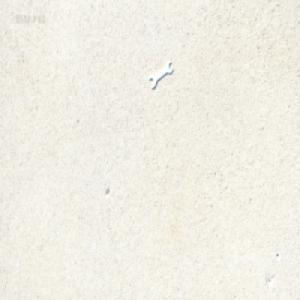Wrench: (148, 60, 172, 90)
